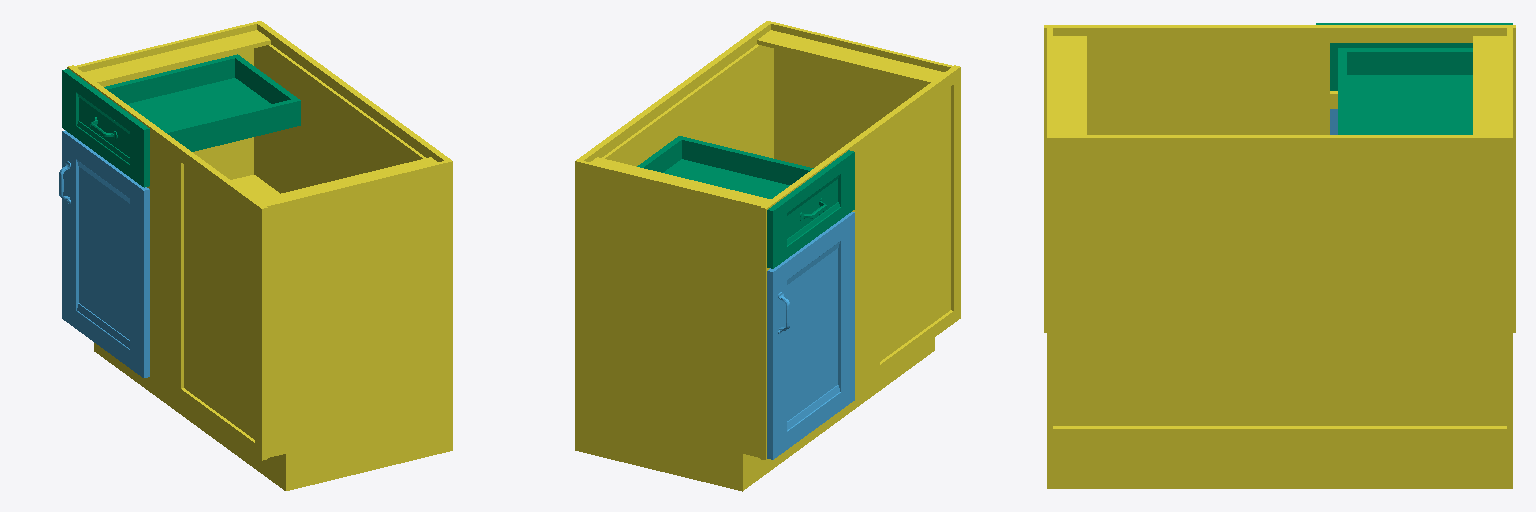
robot.urdf — partnet_3cdabe258ed67a144da5feafe6f1c8fc:
<?xml version="1.0" ?>
<robot name="partnet_3cdabe258ed67a144da5feafe6f1c8fc">
	<link name="base"/>
	<link name="link_0">
		<visual name="cabinet_door_surface-14">
			<origin xyz="0.06925157730966305 0 -0.3877265588637183"/>
			<geometry>
				<mesh filename="textured_objs/original-51.obj"/>
			</geometry>
		</visual>
		<visual name="cabinet_door_surface-14">
			<origin xyz="0.06925157730966305 0 -0.3877265588637183"/>
			<geometry>
				<mesh filename="textured_objs/original-46.obj"/>
			</geometry>
		</visual>
		<visual name="cabinet_door_surface-14">
			<origin xyz="0.06925157730966305 0 -0.3877265588637183"/>
			<geometry>
				<mesh filename="textured_objs/original-47.obj"/>
			</geometry>
		</visual>
		<visual name="cabinet_door_surface-14">
			<origin xyz="0.06925157730966305 0 -0.3877265588637183"/>
			<geometry>
				<mesh filename="textured_objs/original-45.obj"/>
			</geometry>
		</visual>
		<visual name="cabinet_door_surface-14">
			<origin xyz="0.06925157730966305 0 -0.3877265588637183"/>
			<geometry>
				<mesh filename="textured_objs/original-48.obj"/>
			</geometry>
		</visual>
		<visual name="cabinet_door_surface-14">
			<origin xyz="0.06925157730966305 0 -0.3877265588637183"/>
			<geometry>
				<mesh filename="textured_objs/original-50.obj"/>
			</geometry>
		</visual>
		<visual name="handle-15">
			<origin xyz="0.06925157730966305 0 -0.3877265588637183"/>
			<geometry>
				<mesh filename="textured_objs/original-52.obj"/>
			</geometry>
		</visual>
		<collision>
			<origin xyz="0.06925157730966305 0 -0.3877265588637183"/>
			<geometry>
				<mesh filename="textured_objs/original-51.obj"/>
			</geometry>
		</collision>
		<collision>
			<origin xyz="0.06925157730966305 0 -0.3877265588637183"/>
			<geometry>
				<mesh filename="textured_objs/original-46.obj"/>
			</geometry>
		</collision>
		<collision>
			<origin xyz="0.06925157730966305 0 -0.3877265588637183"/>
			<geometry>
				<mesh filename="textured_objs/original-47.obj"/>
			</geometry>
		</collision>
		<collision>
			<origin xyz="0.06925157730966305 0 -0.3877265588637183"/>
			<geometry>
				<mesh filename="textured_objs/original-45.obj"/>
			</geometry>
		</collision>
		<collision>
			<origin xyz="0.06925157730966305 0 -0.3877265588637183"/>
			<geometry>
				<mesh filename="textured_objs/original-48.obj"/>
			</geometry>
		</collision>
		<collision>
			<origin xyz="0.06925157730966305 0 -0.3877265588637183"/>
			<geometry>
				<mesh filename="textured_objs/original-50.obj"/>
			</geometry>
		</collision>
		<collision>
			<origin xyz="0.06925157730966305 0 -0.3877265588637183"/>
			<geometry>
				<mesh filename="textured_objs/original-52.obj"/>
			</geometry>
		</collision>
	</link>
	<joint name="joint_0" type="revolute">
		<origin xyz="-0.06925157730966305 0 0.3877265588637183"/>
		<axis xyz="0 1 0"/>
		<child link="link_0"/>
		<parent link="link_2"/>
		<limit lower="0.0" upper="1.5707963267948966"/>
	</joint>
	<link name="link_1">
		<visual name="drawer_front-9">
			<origin xyz="0 0 0"/>
			<geometry>
				<mesh filename="textured_objs/original-42.obj"/>
			</geometry>
		</visual>
		<visual name="drawer_front-9">
			<origin xyz="0 0 0"/>
			<geometry>
				<mesh filename="textured_objs/original-38.obj"/>
			</geometry>
		</visual>
		<visual name="drawer_front-9">
			<origin xyz="0 0 0"/>
			<geometry>
				<mesh filename="textured_objs/original-39.obj"/>
			</geometry>
		</visual>
		<visual name="drawer_front-9">
			<origin xyz="0 0 0"/>
			<geometry>
				<mesh filename="textured_objs/original-36.obj"/>
			</geometry>
		</visual>
		<visual name="drawer_front-9">
			<origin xyz="0 0 0"/>
			<geometry>
				<mesh filename="textured_objs/original-37.obj"/>
			</geometry>
		</visual>
		<visual name="drawer_front-9">
			<origin xyz="0 0 0"/>
			<geometry>
				<mesh filename="textured_objs/original-41.obj"/>
			</geometry>
		</visual>
		<visual name="drawer_front-9">
			<origin xyz="0 0 0"/>
			<geometry>
				<mesh filename="textured_objs/original-28.obj"/>
			</geometry>
		</visual>
		<visual name="drawer_side-10">
			<origin xyz="0 0 0"/>
			<geometry>
				<mesh filename="textured_objs/original-27.obj"/>
			</geometry>
		</visual>
		<visual name="drawer_side-11">
			<origin xyz="0 0 0"/>
			<geometry>
				<mesh filename="textured_objs/original-32.obj"/>
			</geometry>
		</visual>
		<visual name="drawer_side-11">
			<origin xyz="0 0 0"/>
			<geometry>
				<mesh filename="textured_objs/original-34.obj"/>
			</geometry>
		</visual>
		<visual name="drawer_back-12">
			<origin xyz="0 0 0"/>
			<geometry>
				<mesh filename="textured_objs/original-33.obj"/>
			</geometry>
		</visual>
		<visual name="drawer_bottom-13">
			<origin xyz="0 0 0"/>
			<geometry>
				<mesh filename="textured_objs/original-31.obj"/>
			</geometry>
		</visual>
		<visual name="drawer_bottom-13">
			<origin xyz="0 0 0"/>
			<geometry>
				<mesh filename="textured_objs/original-30.obj"/>
			</geometry>
		</visual>
		<visual name="handle-8">
			<origin xyz="0 0 0"/>
			<geometry>
				<mesh filename="textured_objs/original-43.obj"/>
			</geometry>
		</visual>
		<collision>
			<origin xyz="0 0 0"/>
			<geometry>
				<mesh filename="textured_objs/original-42.obj"/>
			</geometry>
		</collision>
		<collision>
			<origin xyz="0 0 0"/>
			<geometry>
				<mesh filename="textured_objs/original-38.obj"/>
			</geometry>
		</collision>
		<collision>
			<origin xyz="0 0 0"/>
			<geometry>
				<mesh filename="textured_objs/original-39.obj"/>
			</geometry>
		</collision>
		<collision>
			<origin xyz="0 0 0"/>
			<geometry>
				<mesh filename="textured_objs/original-36.obj"/>
			</geometry>
		</collision>
		<collision>
			<origin xyz="0 0 0"/>
			<geometry>
				<mesh filename="textured_objs/original-37.obj"/>
			</geometry>
		</collision>
		<collision>
			<origin xyz="0 0 0"/>
			<geometry>
				<mesh filename="textured_objs/original-41.obj"/>
			</geometry>
		</collision>
		<collision>
			<origin xyz="0 0 0"/>
			<geometry>
				<mesh filename="textured_objs/original-28.obj"/>
			</geometry>
		</collision>
		<collision>
			<origin xyz="0 0 0"/>
			<geometry>
				<mesh filename="textured_objs/original-27.obj"/>
			</geometry>
		</collision>
		<collision>
			<origin xyz="0 0 0"/>
			<geometry>
				<mesh filename="textured_objs/original-32.obj"/>
			</geometry>
		</collision>
		<collision>
			<origin xyz="0 0 0"/>
			<geometry>
				<mesh filename="textured_objs/original-34.obj"/>
			</geometry>
		</collision>
		<collision>
			<origin xyz="0 0 0"/>
			<geometry>
				<mesh filename="textured_objs/original-33.obj"/>
			</geometry>
		</collision>
		<collision>
			<origin xyz="0 0 0"/>
			<geometry>
				<mesh filename="textured_objs/original-31.obj"/>
			</geometry>
		</collision>
		<collision>
			<origin xyz="0 0 0"/>
			<geometry>
				<mesh filename="textured_objs/original-30.obj"/>
			</geometry>
		</collision>
		<collision>
			<origin xyz="0 0 0"/>
			<geometry>
				<mesh filename="textured_objs/original-43.obj"/>
			</geometry>
		</collision>
	</link>
	<joint name="joint_1" type="prismatic">
		<origin xyz="0 0 0"/>
		<axis xyz="0 0 1"/>
		<child link="link_1"/>
		<parent link="link_2"/>
		<limit lower="0" upper="0.6"/>
	</joint>
	<link name="link_2">
		<visual name="shelf-4">
			<origin xyz="0 0 0"/>
			<geometry>
				<mesh filename="textured_objs/original-2.obj"/>
			</geometry>
		</visual>
		<visual name="vertical_side_panel-22">
			<origin xyz="0 0 0"/>
			<geometry>
				<mesh filename="textured_objs/original-16.obj"/>
			</geometry>
		</visual>
		<visual name="vertical_side_panel-22">
			<origin xyz="0 0 0"/>
			<geometry>
				<mesh filename="textured_objs/original-15.obj"/>
			</geometry>
		</visual>
		<visual name="vertical_side_panel-23">
			<origin xyz="0 0 0"/>
			<geometry>
				<mesh filename="textured_objs/original-12.obj"/>
			</geometry>
		</visual>
		<visual name="vertical_side_panel-23">
			<origin xyz="0 0 0"/>
			<geometry>
				<mesh filename="textured_objs/original-11.obj"/>
			</geometry>
		</visual>
		<visual name="back_panel-24">
			<origin xyz="0 0 0"/>
			<geometry>
				<mesh filename="textured_objs/original-6.obj"/>
			</geometry>
		</visual>
		<visual name="bottom_panel-25">
			<origin xyz="0 0 0"/>
			<geometry>
				<mesh filename="textured_objs/original-3.obj"/>
			</geometry>
		</visual>
		<visual name="frame_vertical_bar-26">
			<origin xyz="0 0 0"/>
			<geometry>
				<mesh filename="textured_objs/original-8.obj"/>
			</geometry>
		</visual>
		<visual name="frame_horizontal_bar-28">
			<origin xyz="0 0 0"/>
			<geometry>
				<mesh filename="textured_objs/original-18.obj"/>
			</geometry>
		</visual>
		<visual name="frame_horizontal_bar-29">
			<origin xyz="0 0 0"/>
			<geometry>
				<mesh filename="textured_objs/original-9.obj"/>
			</geometry>
		</visual>
		<visual name="frame_horizontal_bar-30">
			<origin xyz="0 0 0"/>
			<geometry>
				<mesh filename="textured_objs/original-22.obj"/>
			</geometry>
		</visual>
		<visual name="frame_horizontal_bar-31">
			<origin xyz="0 0 0"/>
			<geometry>
				<mesh filename="textured_objs/original-5.obj"/>
			</geometry>
		</visual>
		<visual name="frame_horizontal_bar-32">
			<origin xyz="0 0 0"/>
			<geometry>
				<mesh filename="textured_objs/original-21.obj"/>
			</geometry>
		</visual>
		<visual name="frame_horizontal_bar-33">
			<origin xyz="0 0 0"/>
			<geometry>
				<mesh filename="textured_objs/original-7.obj"/>
			</geometry>
		</visual>
		<visual name="frame_vertical_bar-34">
			<origin xyz="0 0 0"/>
			<geometry>
				<mesh filename="textured_objs/original-4.obj"/>
			</geometry>
		</visual>
		<visual name="vertical_side_panel-36">
			<origin xyz="0 0 0"/>
			<geometry>
				<mesh filename="textured_objs/original-23.obj"/>
			</geometry>
		</visual>
		<visual name="frame_vertical_bar-37">
			<origin xyz="0 0 0"/>
			<geometry>
				<mesh filename="textured_objs/original-24.obj"/>
			</geometry>
		</visual>
		<visual name="other_leaf-39">
			<origin xyz="0 0 0"/>
			<geometry>
				<mesh filename="textured_objs/original-53.obj"/>
			</geometry>
		</visual>
		<visual name="base_side_panel-17">
			<origin xyz="0 0 0"/>
			<geometry>
				<mesh filename="textured_objs/original-19.obj"/>
			</geometry>
		</visual>
		<visual name="base_side_panel-18">
			<origin xyz="0 0 0"/>
			<geometry>
				<mesh filename="textured_objs/original-13.obj"/>
			</geometry>
		</visual>
		<visual name="base_side_panel-19">
			<origin xyz="0 0 0"/>
			<geometry>
				<mesh filename="textured_objs/original-20.obj"/>
			</geometry>
		</visual>
		<visual name="base_side_panel-20">
			<origin xyz="0 0 0"/>
			<geometry>
				<mesh filename="textured_objs/original-17.obj"/>
			</geometry>
		</visual>
		<collision>
			<origin xyz="0 0 0"/>
			<geometry>
				<mesh filename="textured_objs/original-2.obj"/>
			</geometry>
		</collision>
		<collision>
			<origin xyz="0 0 0"/>
			<geometry>
				<mesh filename="textured_objs/original-16.obj"/>
			</geometry>
		</collision>
		<collision>
			<origin xyz="0 0 0"/>
			<geometry>
				<mesh filename="textured_objs/original-15.obj"/>
			</geometry>
		</collision>
		<collision>
			<origin xyz="0 0 0"/>
			<geometry>
				<mesh filename="textured_objs/original-12.obj"/>
			</geometry>
		</collision>
		<collision>
			<origin xyz="0 0 0"/>
			<geometry>
				<mesh filename="textured_objs/original-11.obj"/>
			</geometry>
		</collision>
		<collision>
			<origin xyz="0 0 0"/>
			<geometry>
				<mesh filename="textured_objs/original-6.obj"/>
			</geometry>
		</collision>
		<collision>
			<origin xyz="0 0 0"/>
			<geometry>
				<mesh filename="textured_objs/original-3.obj"/>
			</geometry>
		</collision>
		<collision>
			<origin xyz="0 0 0"/>
			<geometry>
				<mesh filename="textured_objs/original-8.obj"/>
			</geometry>
		</collision>
		<collision>
			<origin xyz="0 0 0"/>
			<geometry>
				<mesh filename="textured_objs/original-18.obj"/>
			</geometry>
		</collision>
		<collision>
			<origin xyz="0 0 0"/>
			<geometry>
				<mesh filename="textured_objs/original-9.obj"/>
			</geometry>
		</collision>
		<collision>
			<origin xyz="0 0 0"/>
			<geometry>
				<mesh filename="textured_objs/original-22.obj"/>
			</geometry>
		</collision>
		<collision>
			<origin xyz="0 0 0"/>
			<geometry>
				<mesh filename="textured_objs/original-5.obj"/>
			</geometry>
		</collision>
		<collision>
			<origin xyz="0 0 0"/>
			<geometry>
				<mesh filename="textured_objs/original-21.obj"/>
			</geometry>
		</collision>
		<collision>
			<origin xyz="0 0 0"/>
			<geometry>
				<mesh filename="textured_objs/original-7.obj"/>
			</geometry>
		</collision>
		<collision>
			<origin xyz="0 0 0"/>
			<geometry>
				<mesh filename="textured_objs/original-4.obj"/>
			</geometry>
		</collision>
		<collision>
			<origin xyz="0 0 0"/>
			<geometry>
				<mesh filename="textured_objs/original-23.obj"/>
			</geometry>
		</collision>
		<collision>
			<origin xyz="0 0 0"/>
			<geometry>
				<mesh filename="textured_objs/original-24.obj"/>
			</geometry>
		</collision>
		<collision>
			<origin xyz="0 0 0"/>
			<geometry>
				<mesh filename="textured_objs/original-53.obj"/>
			</geometry>
		</collision>
		<collision>
			<origin xyz="0 0 0"/>
			<geometry>
				<mesh filename="textured_objs/original-19.obj"/>
			</geometry>
		</collision>
		<collision>
			<origin xyz="0 0 0"/>
			<geometry>
				<mesh filename="textured_objs/original-13.obj"/>
			</geometry>
		</collision>
		<collision>
			<origin xyz="0 0 0"/>
			<geometry>
				<mesh filename="textured_objs/original-20.obj"/>
			</geometry>
		</collision>
		<collision>
			<origin xyz="0 0 0"/>
			<geometry>
				<mesh filename="textured_objs/original-17.obj"/>
			</geometry>
		</collision>
	</link>
	<joint name="joint_2" type="fixed">
		<origin rpy="1.570796326794897 0 -1.570796326794897" xyz="0 0 0"/>
		<child link="link_2"/>
		<parent link="base"/>
	</joint>
</robot>

--- Render facts (derived) ---
3 views of the same robot in one strip: view 1: azimuth 30°, elevation 25°; view 2: azimuth 150°, elevation 25°; view 3: azimuth 270°, elevation 25° (orthographic).
Model partnet_3cdabe258ed67a144da5feafe6f1c8fc with 4 links and 3 joints (1 revolute, 1 prismatic, 1 fixed), rooted at base, posed every joint at zero.
Visible links, largest first — view 1: link_2, link_1, link_0; view 2: link_2, link_0, link_1; view 3: link_2, link_1.
Link boxes in pixels (left/top/right/bottom): link_2: left=67, top=21, right=452, bottom=490; link_1: left=62, top=54, right=300, bottom=187; link_0: left=59, top=130, right=149, bottom=377; link_2: left=575, top=21, right=960, bottom=491; link_0: left=767, top=212, right=854, bottom=459; link_1: left=637, top=136, right=854, bottom=268; link_2: left=1044, top=25, right=1515, bottom=488; link_1: left=1316, top=23, right=1512, bottom=134.
Size in the robot's own frame: 0.8861 by 1.44 by 1.18 metres.
43 mesh visuals loaded from 43 distinct referenced files (43 OBJ).